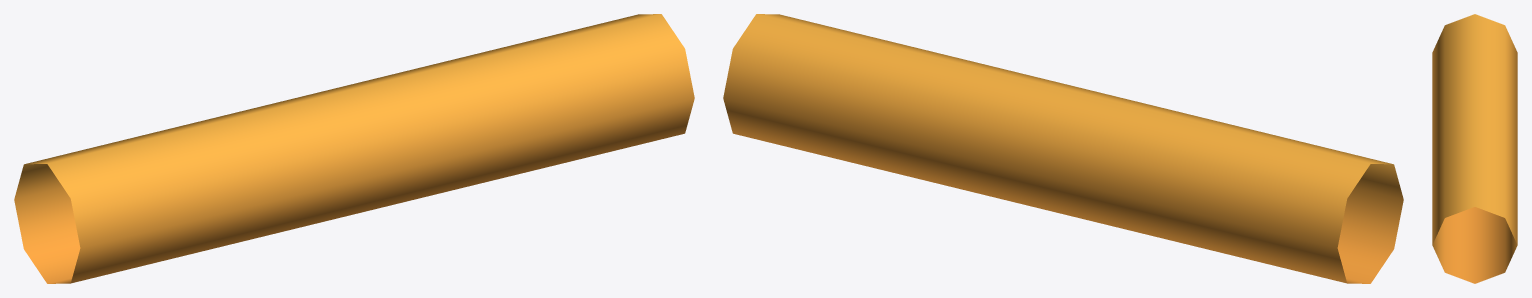
Rendered from fence.fbx.
The picture shows the model from 3 angles, left to right: view 1: azimuth 30°, elevation 25°; view 2: azimuth 150°, elevation 25°; view 3: azimuth 270°, elevation 25°; orthographic projection. The views are drawn at different scales.
Parts seen in each view (by area): view 1: fence; view 2: fence; view 3: fence.
Boxes of the visible parts, <box> form: fence: <box>14,14,694,283</box>; fence: <box>723,14,1403,283</box>; fence: <box>1432,14,1517,283</box>.
Size of the model in its own units: 432 by 80.62 by 80.62.
